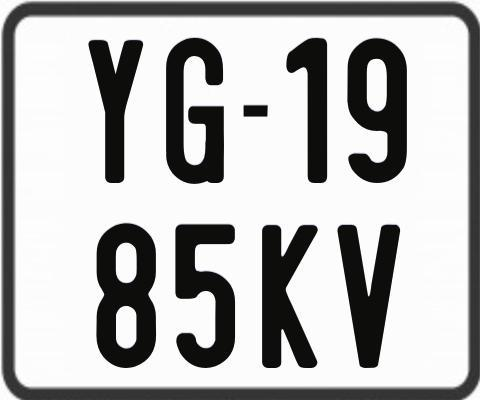1: (286, 35, 331, 186)
5: (174, 222, 239, 368)
8: (93, 222, 157, 371)
9: (347, 37, 413, 185)
G: (165, 38, 226, 187)
K: (262, 222, 322, 365)
V: (336, 222, 400, 368)
Y: (86, 38, 143, 182)
